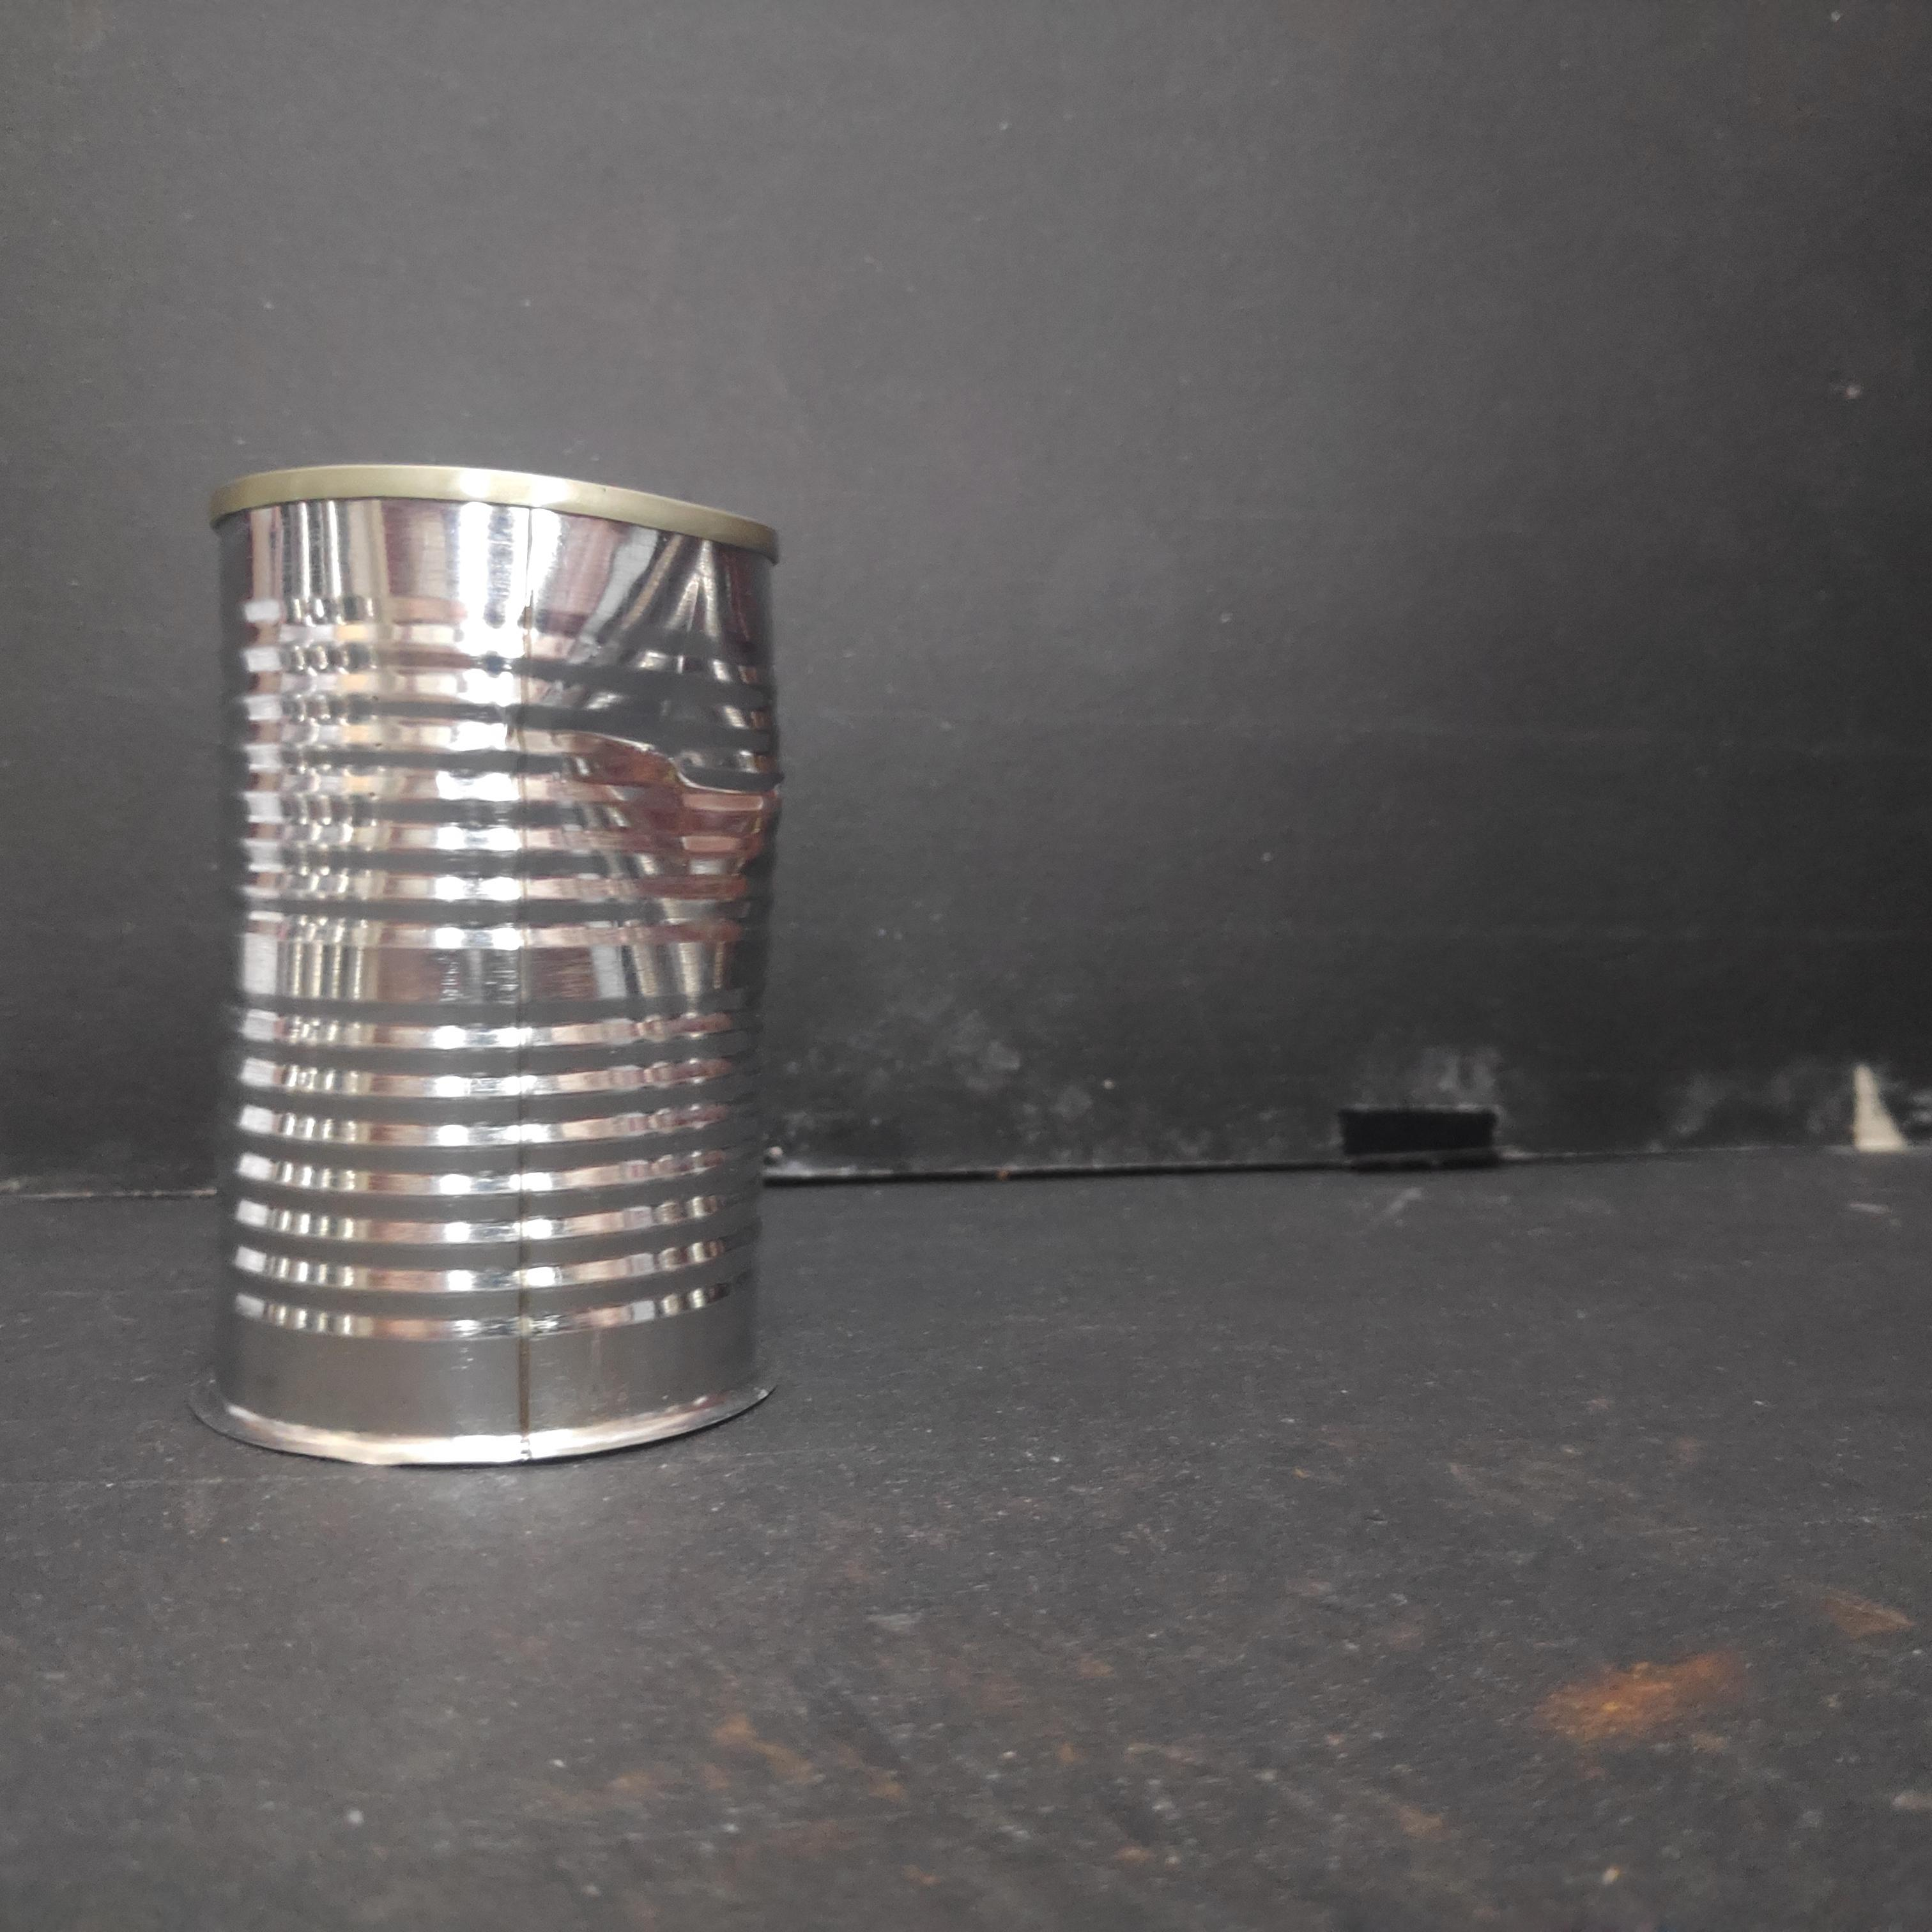Minor Defect: (196, 444, 796, 1483)
